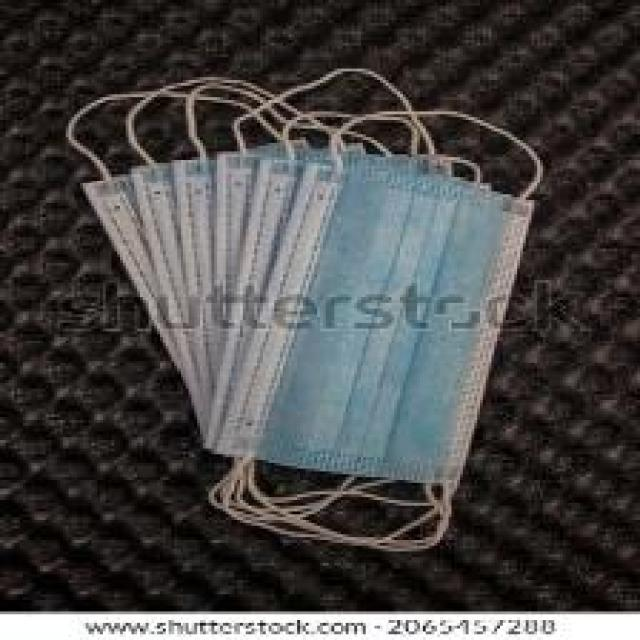Mask: (68, 62, 580, 582)
